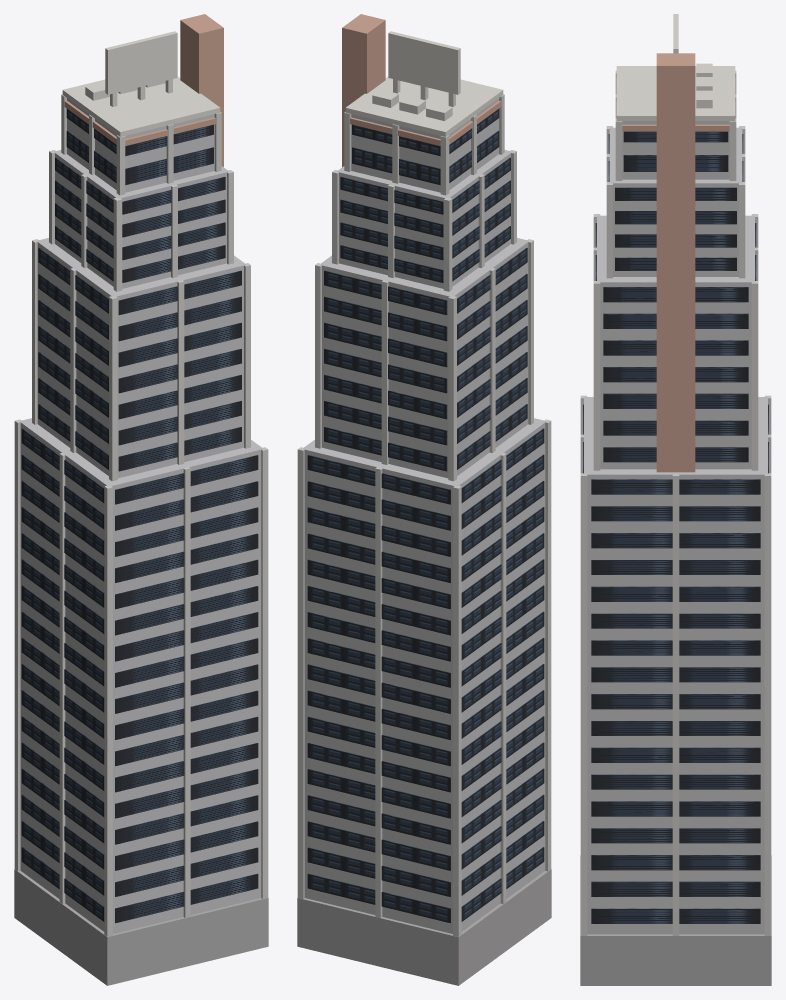
File: skyline-tower-landmark-billboard.glb
3 renders of one model, left to right at view 1: azimuth 30°, elevation 25°; view 2: azimuth 150°, elevation 25°; view 3: azimuth 270°, elevation 25°, orthographic. The views are drawn at different scales.
Parts seen in each view (by area): view 1: windows, body-1, pilasters, body-2, podium, body-3, parapet, roof-detail, core, body-4, crown-band; view 2: windows, body-1, pilasters, body-2, podium, body-3, roof-detail, parapet, core, body-4, crown-band; view 3: windows, body-1, pilasters, core, body-2, podium, body-3, parapet, body-4, roof-detail, crown-band.
Part boxes in pixels (x1,y1,x2,y2): windows: (21,108,258,923); body-1: (19,418,263,933); pilasters: (14,94,268,936); body-2: (36,238,246,478); podium: (14,869,268,985); body-3: (54,150,228,288); parapet: (62,77,220,136); roof-detail: (85,31,177,106); core: (180,14,223,166); body-4: (67,98,214,192); crown-band: (64,101,215,145); windows: (307,108,544,923); body-1: (302,418,546,933); pilasters: (297,94,551,936); body-2: (319,238,529,478); podium: (297,869,551,985); body-3: (337,150,511,288); roof-detail: (372,31,460,121); parapet: (345,77,503,136); core: (342,14,385,166); body-4: (351,98,498,192); crown-band: (350,101,501,145); windows: (583,131,768,923); body-1: (584,397,767,934); pilasters: (580,70,771,935); core: (656,53,695,472); body-2: (597,215,754,469); podium: (580,855,771,985); body-3: (609,127,742,276); parapet: (616,66,735,120); body-4: (622,121,729,179); roof-detail: (673,14,712,108); crown-band: (616,78,735,131).
Size of the model in its own units: 20.8 by 110 by 20.8.
6 materials, 1 textured.
